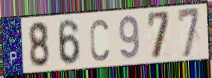6: (57, 18, 83, 67)
7: (176, 5, 201, 60), (147, 11, 172, 62)
8: (28, 20, 51, 69)
9: (118, 14, 141, 62)
C: (89, 17, 111, 63)
